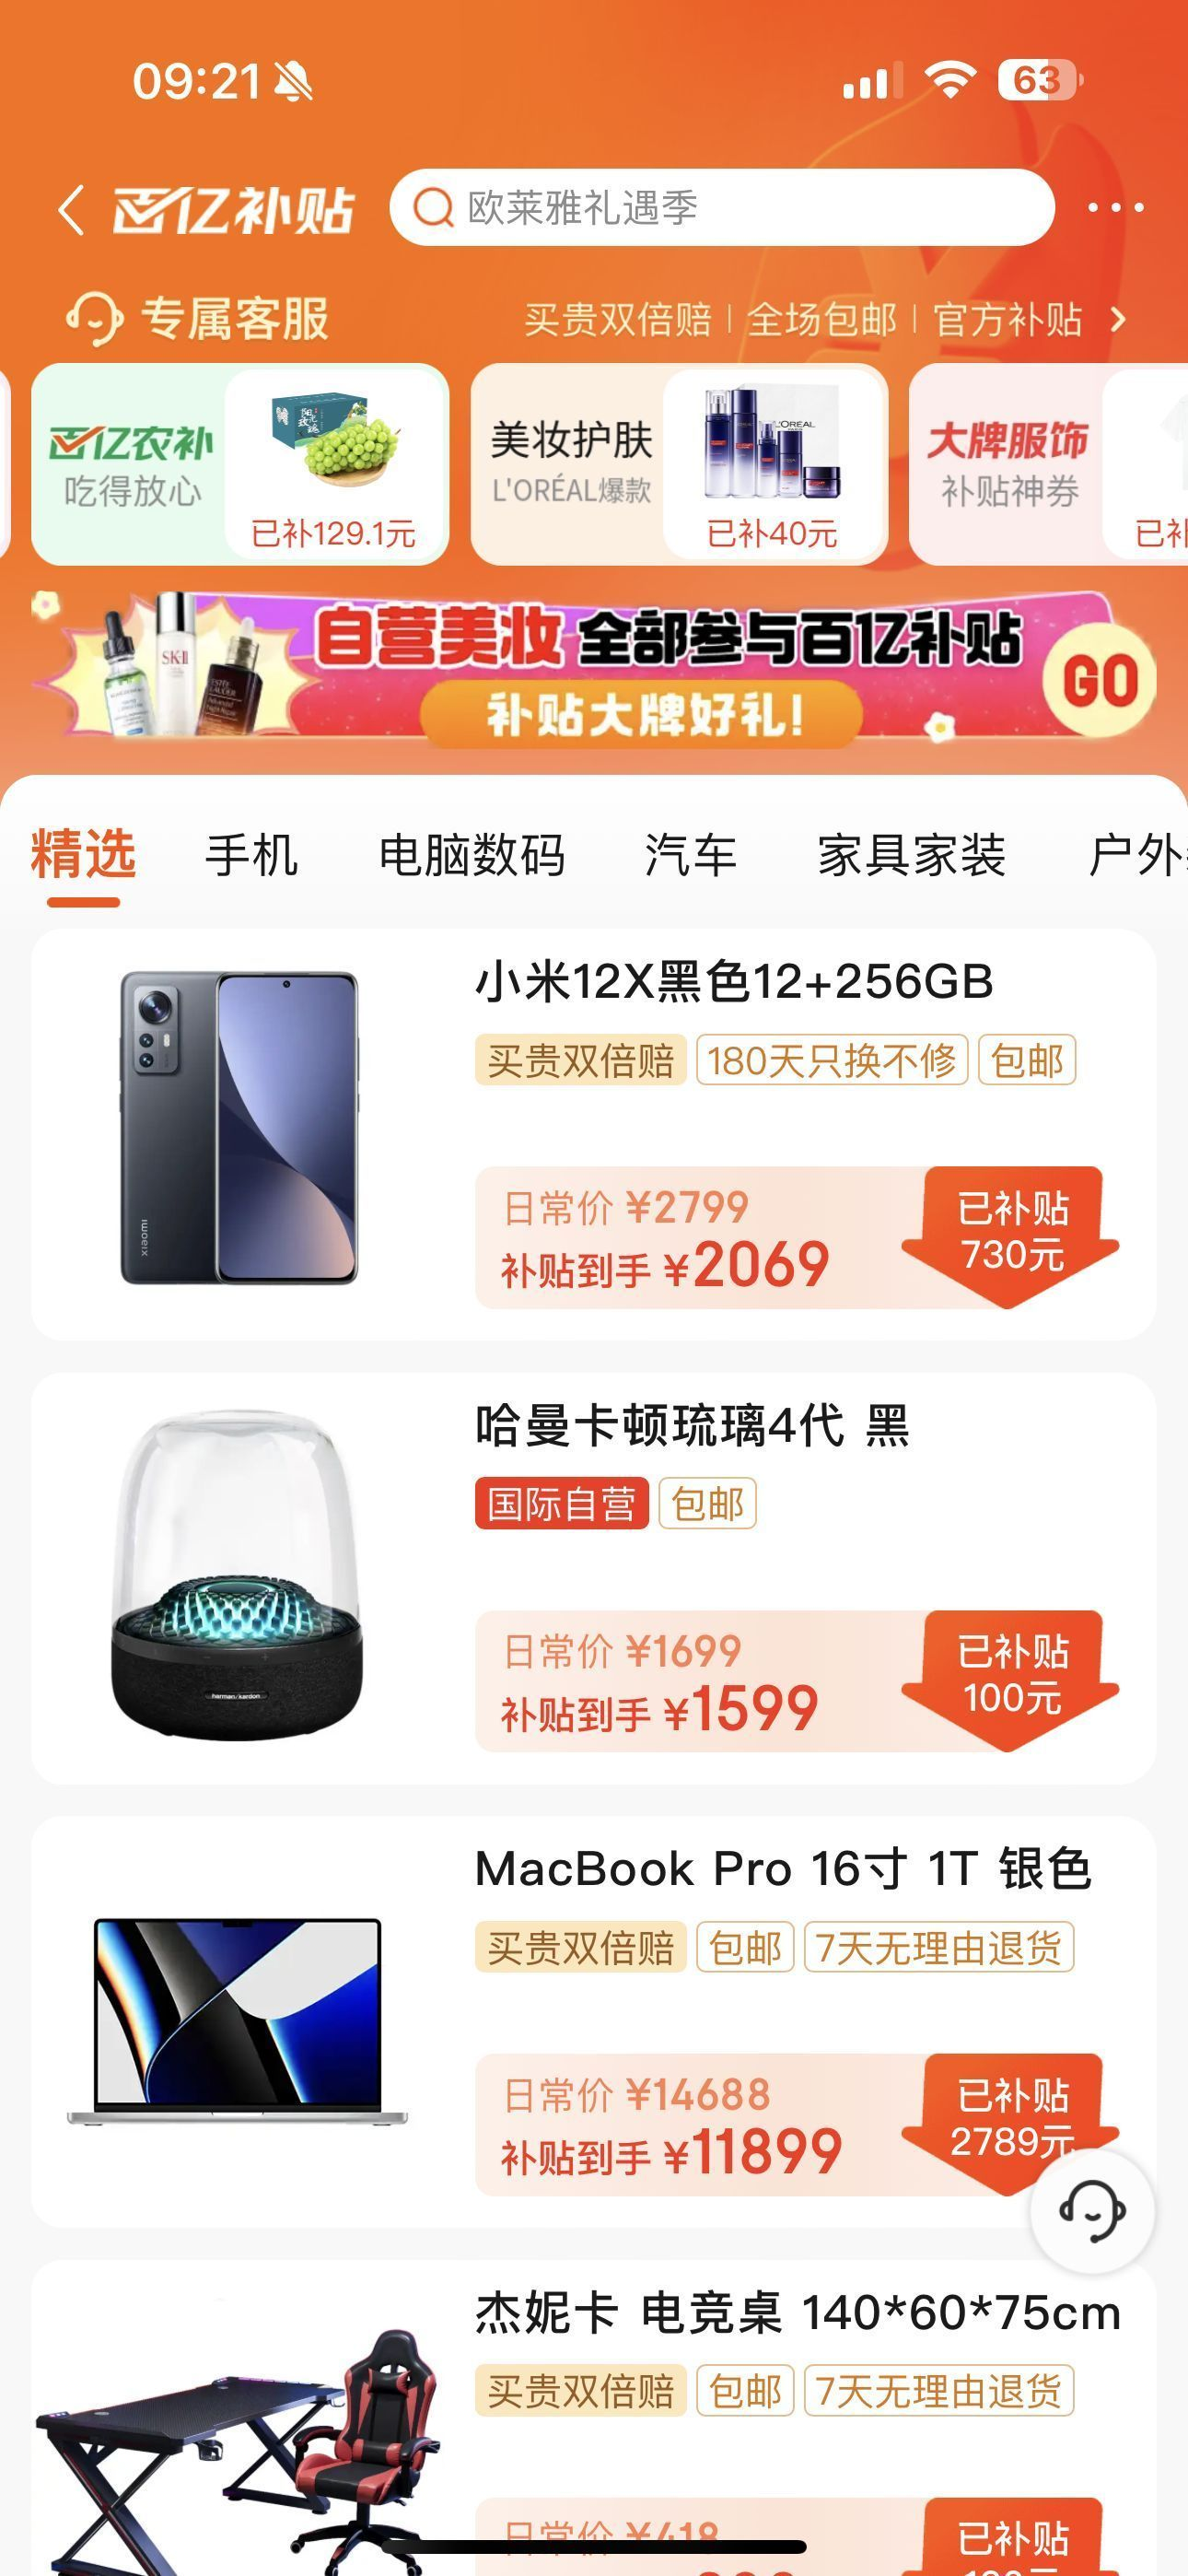item: (7, 1365, 1183, 1804), (13, 925, 1185, 1365), (7, 1809, 1181, 2243)
op_bar: (3, 149, 1188, 269)
seckill: (5, 332, 1178, 775)
